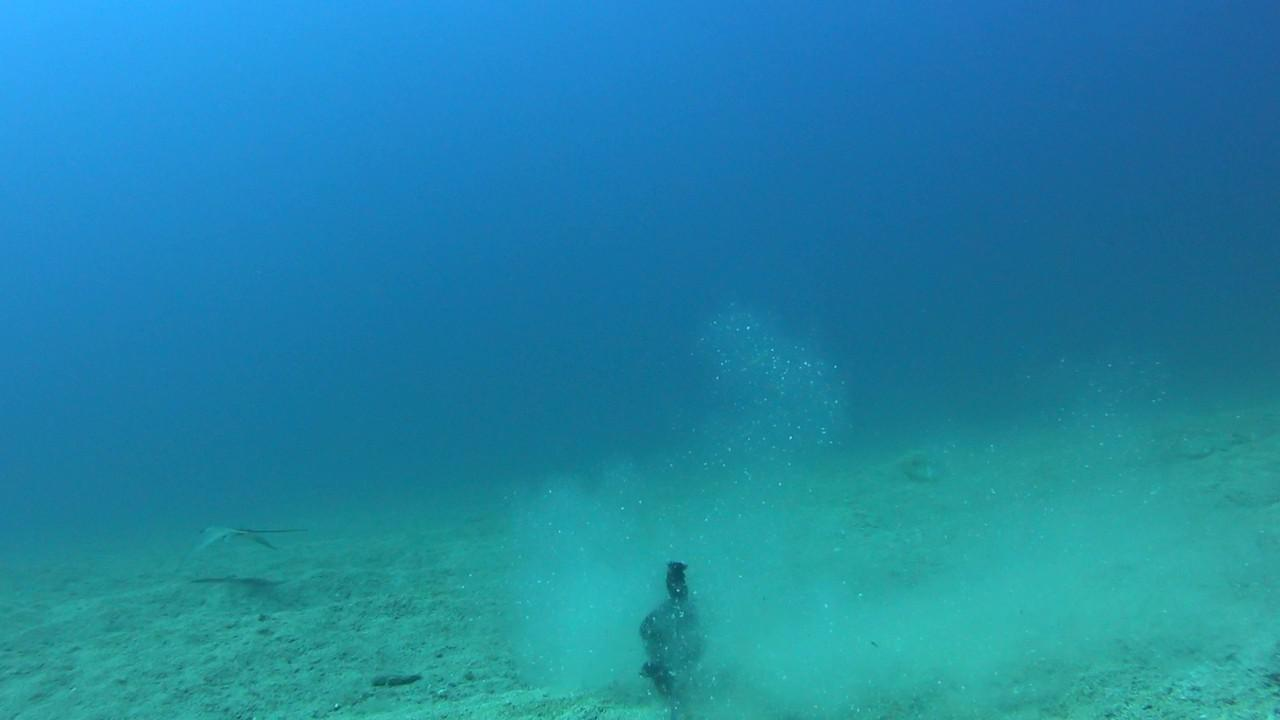myliobatis: (176, 520, 313, 572)
